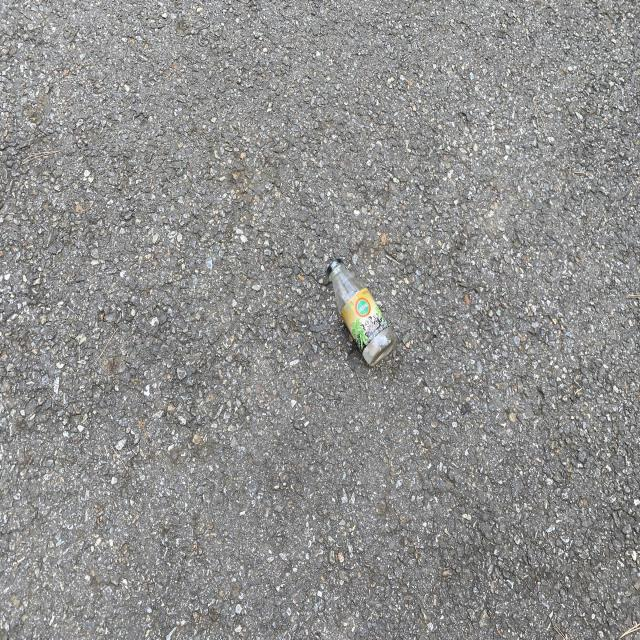glass: (326, 258, 396, 366)
